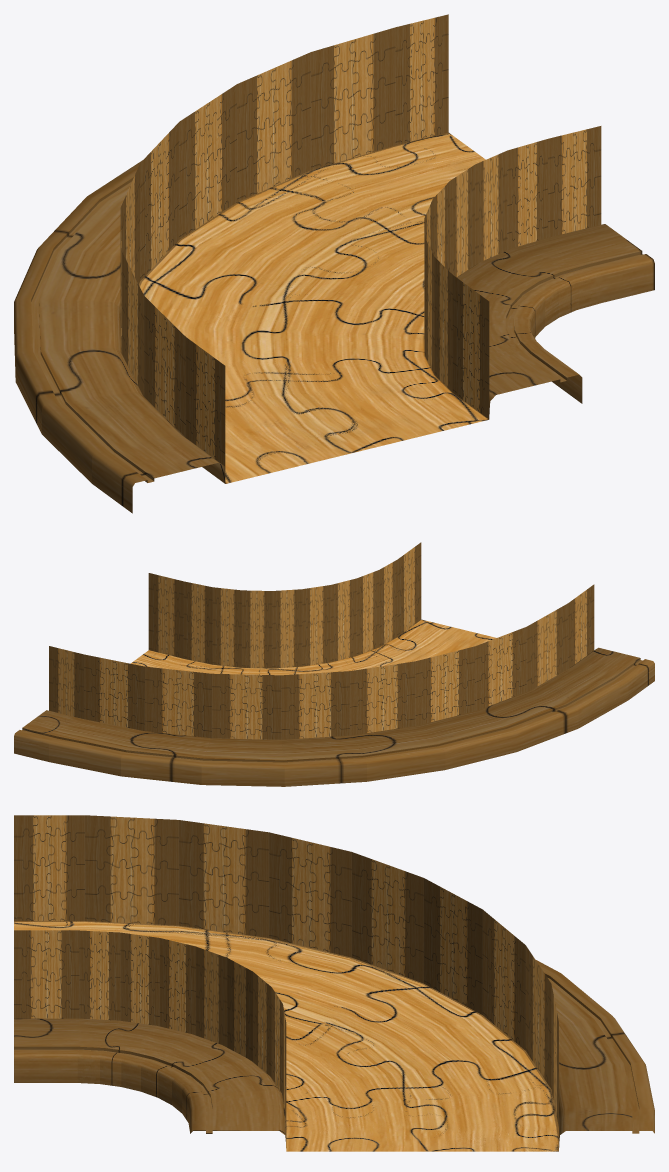
Rendered from Road_Turn_Short.fbx.
3 renders of one model, top to bottom at view 1: azimuth 30°, elevation 25°; view 2: azimuth 150°, elevation 25°; view 3: azimuth 270°, elevation 25°, orthographic. The views are drawn at different scales.
Parts seen in each view (by area): view 1: Road_Turn_Short, Road_Turn_Short_col; view 2: Road_Turn_Short_col, Road_Turn_Short; view 3: Road_Turn_Short_col, Road_Turn_Short.
Part boxes in pixels (x1,y1,x2,y2): Road_Turn_Short: [14, 132, 654, 513]; Road_Turn_Short_col: [120, 14, 601, 483]; Road_Turn_Short_col: [49, 542, 594, 739]; Road_Turn_Short: [14, 619, 654, 786]; Road_Turn_Short_col: [14, 815, 558, 1151]; Road_Turn_Short: [14, 921, 654, 1151].
Bounding box in the file's own units: 3765 × 725 × 3760.
